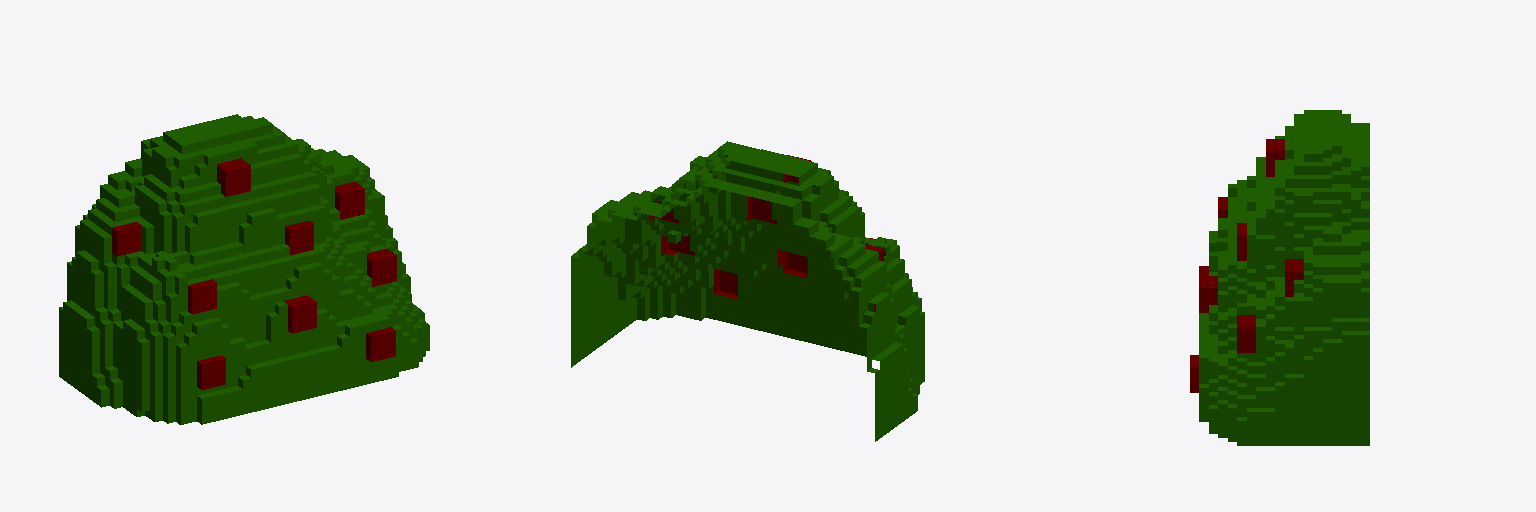
3 renders of one model, left to right at view 1: azimuth 30°, elevation 25°; view 2: azimuth 150°, elevation 25°; view 3: azimuth 270°, elevation 25°, orthographic.
Parts seen in each view (by area): view 1: ObjObject; view 2: ObjObject; view 3: ObjObject.
Boxes of the visible parts, x1=… form: ObjObject: x1=59, y1=114, x2=429, y2=424; ObjObject: x1=571, y1=141, x2=924, y2=441; ObjObject: x1=1190, y1=110, x2=1369, y2=445.
Bounding box in the file's own units: 3.7 × 2.7 × 1.9.
1 materials, 1 textured.